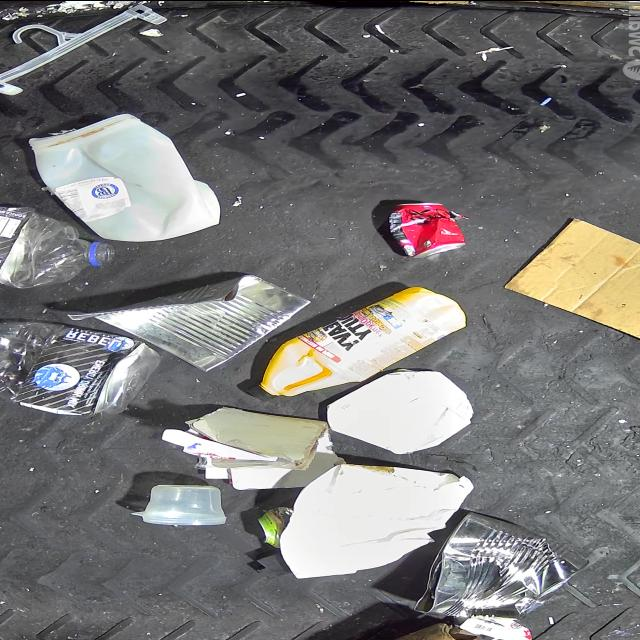can: (413, 510, 584, 619), (386, 200, 468, 256), (258, 504, 292, 544)
milk_jug: (28, 112, 218, 241)
non_white_jug: (252, 288, 470, 402)
plastic_bottle: (0, 320, 163, 414), (0, 204, 115, 288)
